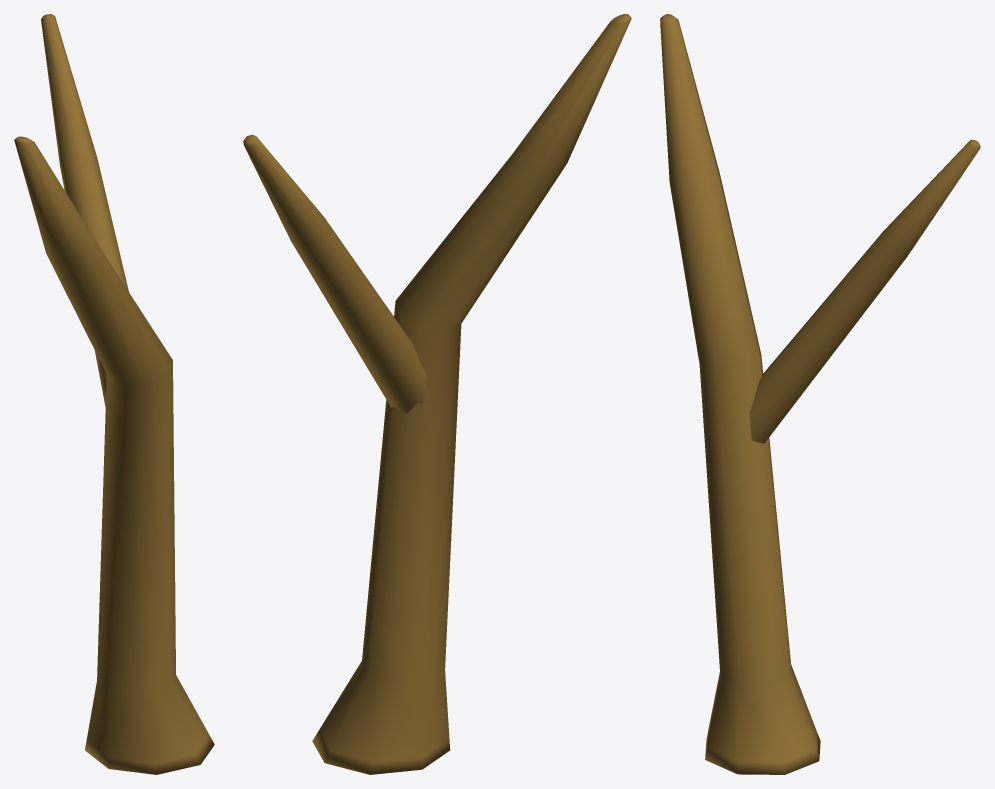
Rendered from Tree4.gltf.
3 renders of one model, left to right at view 1: azimuth 30°, elevation 25°; view 2: azimuth 150°, elevation 25°; view 3: azimuth 270°, elevation 25°, orthographic. The views are drawn at different scales.
Parts seen in each view (by area): view 1: tree 1; view 2: tree 1; view 3: tree 1.
Boxes of the visible parts, bbox=[...] form: tree 1: bbox=[14, 14, 214, 774]; tree 1: bbox=[243, 14, 631, 774]; tree 1: bbox=[660, 14, 980, 774].
Size of the model in its own units: 1.16 by 3.24 by 1.44.
